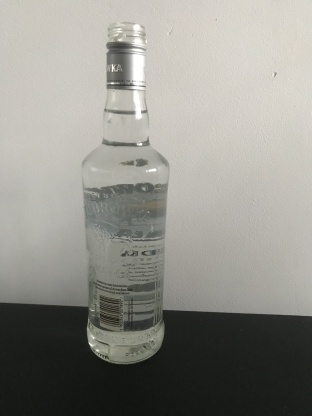nakretka: (104, 20, 148, 91)
